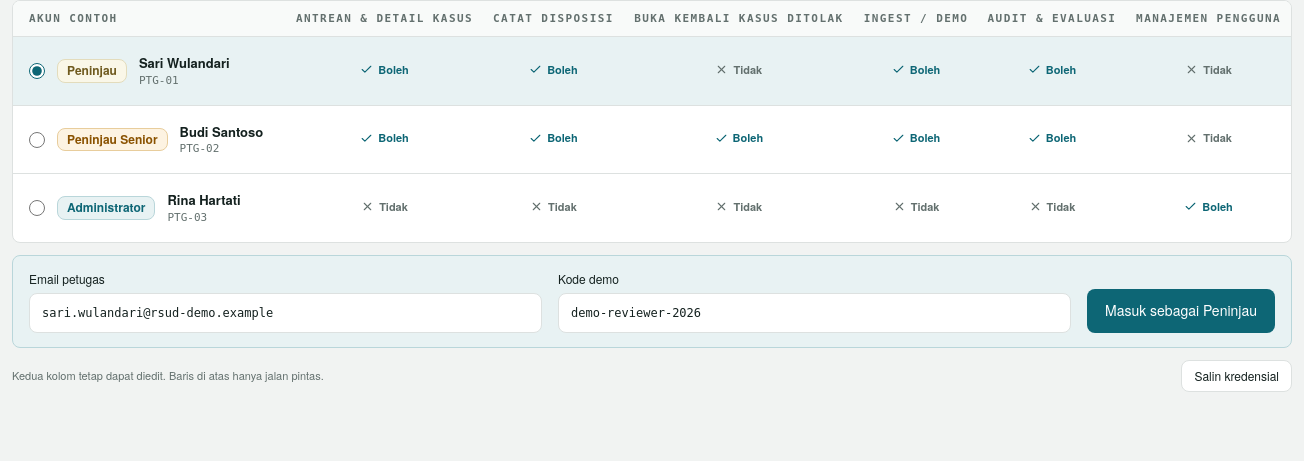
Test: the matrix as the sign-in control › a deactivated account is told apart from a wrong passcode
The image size is (1304, 461).
Click the button "Masuk sebagai Peninjau" at coordinates (1181, 311), box [1087,289,1275,333]
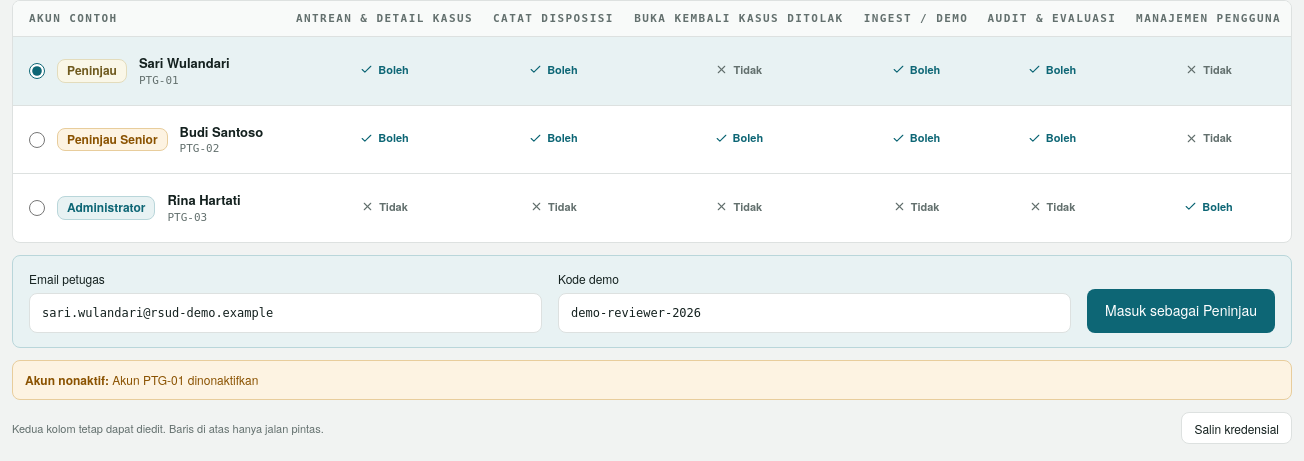
Check: the message shows "Akun nonaktif", box [25,371,112,389]
